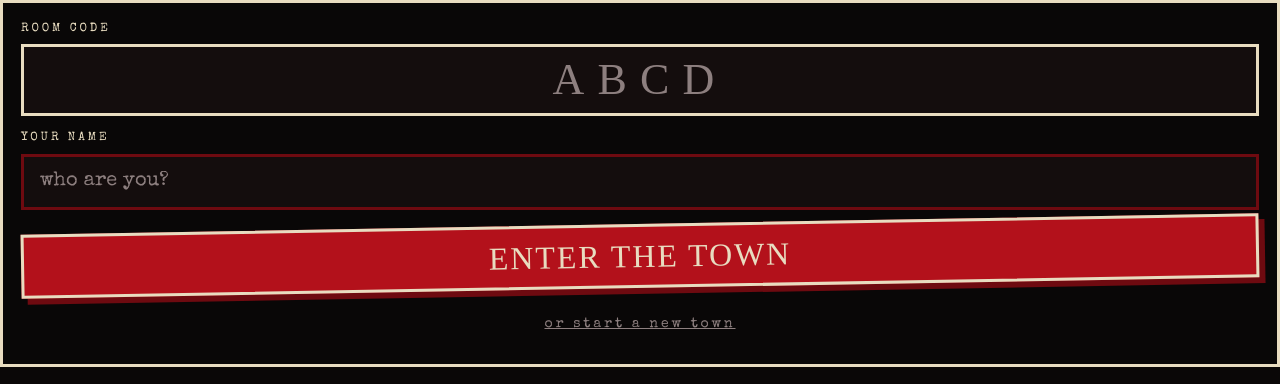
JoinForm › cleans the code as the player types
Step 1. Type "b1c-d!f" into the field labelled "Room code" → (640, 80), box [21,44,1259,116]
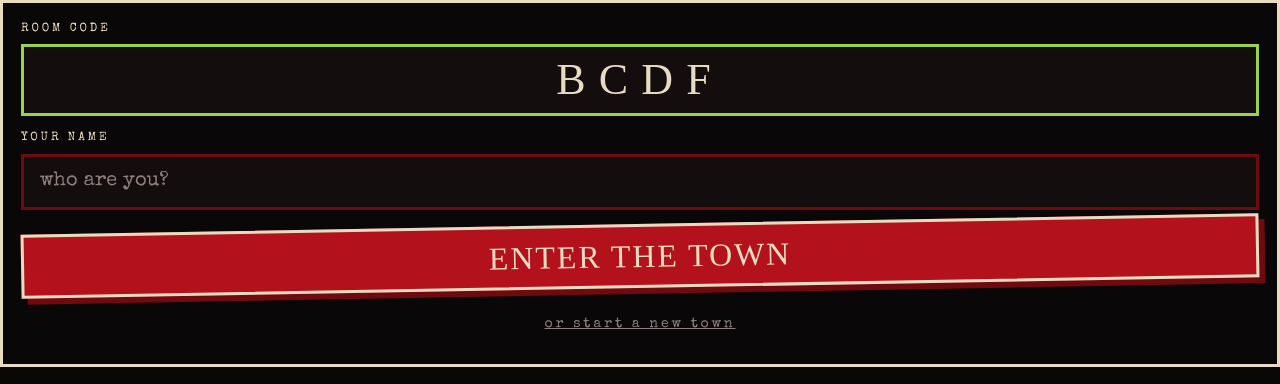
Check: the field labelled "Room code" holds "BCDF", box [21,44,1259,116]
